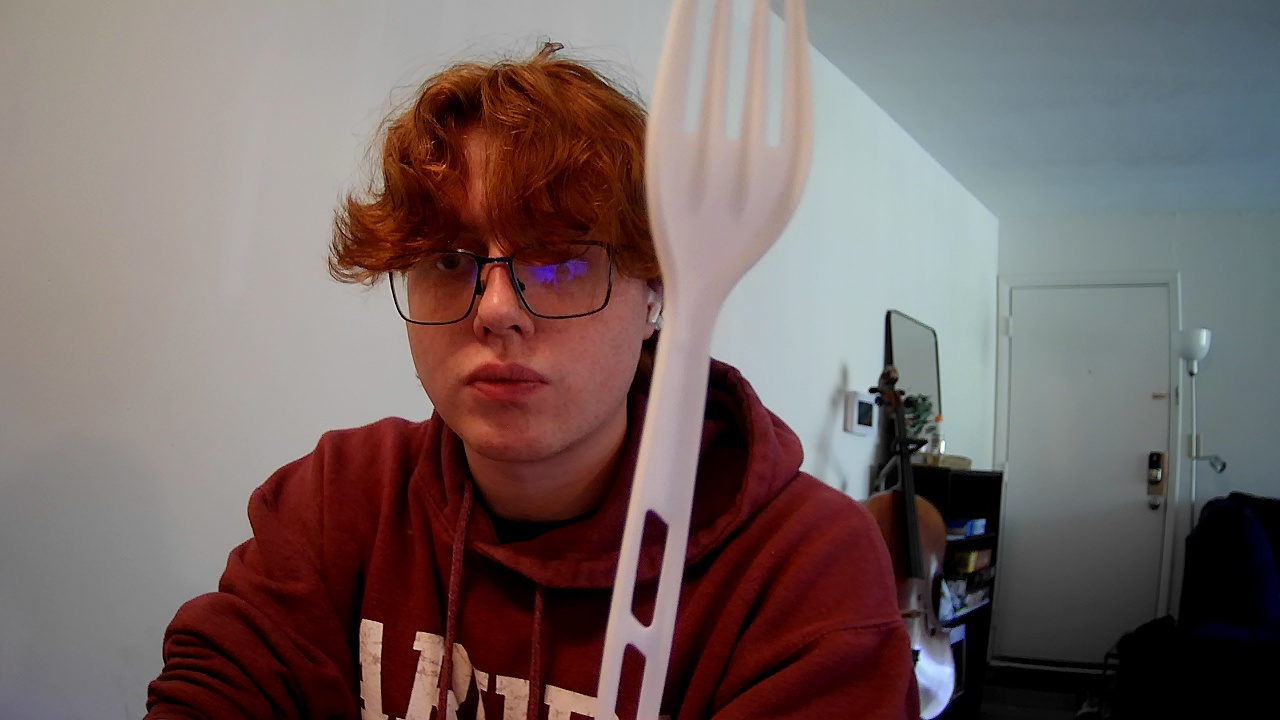trash: (629, 18, 829, 703)
